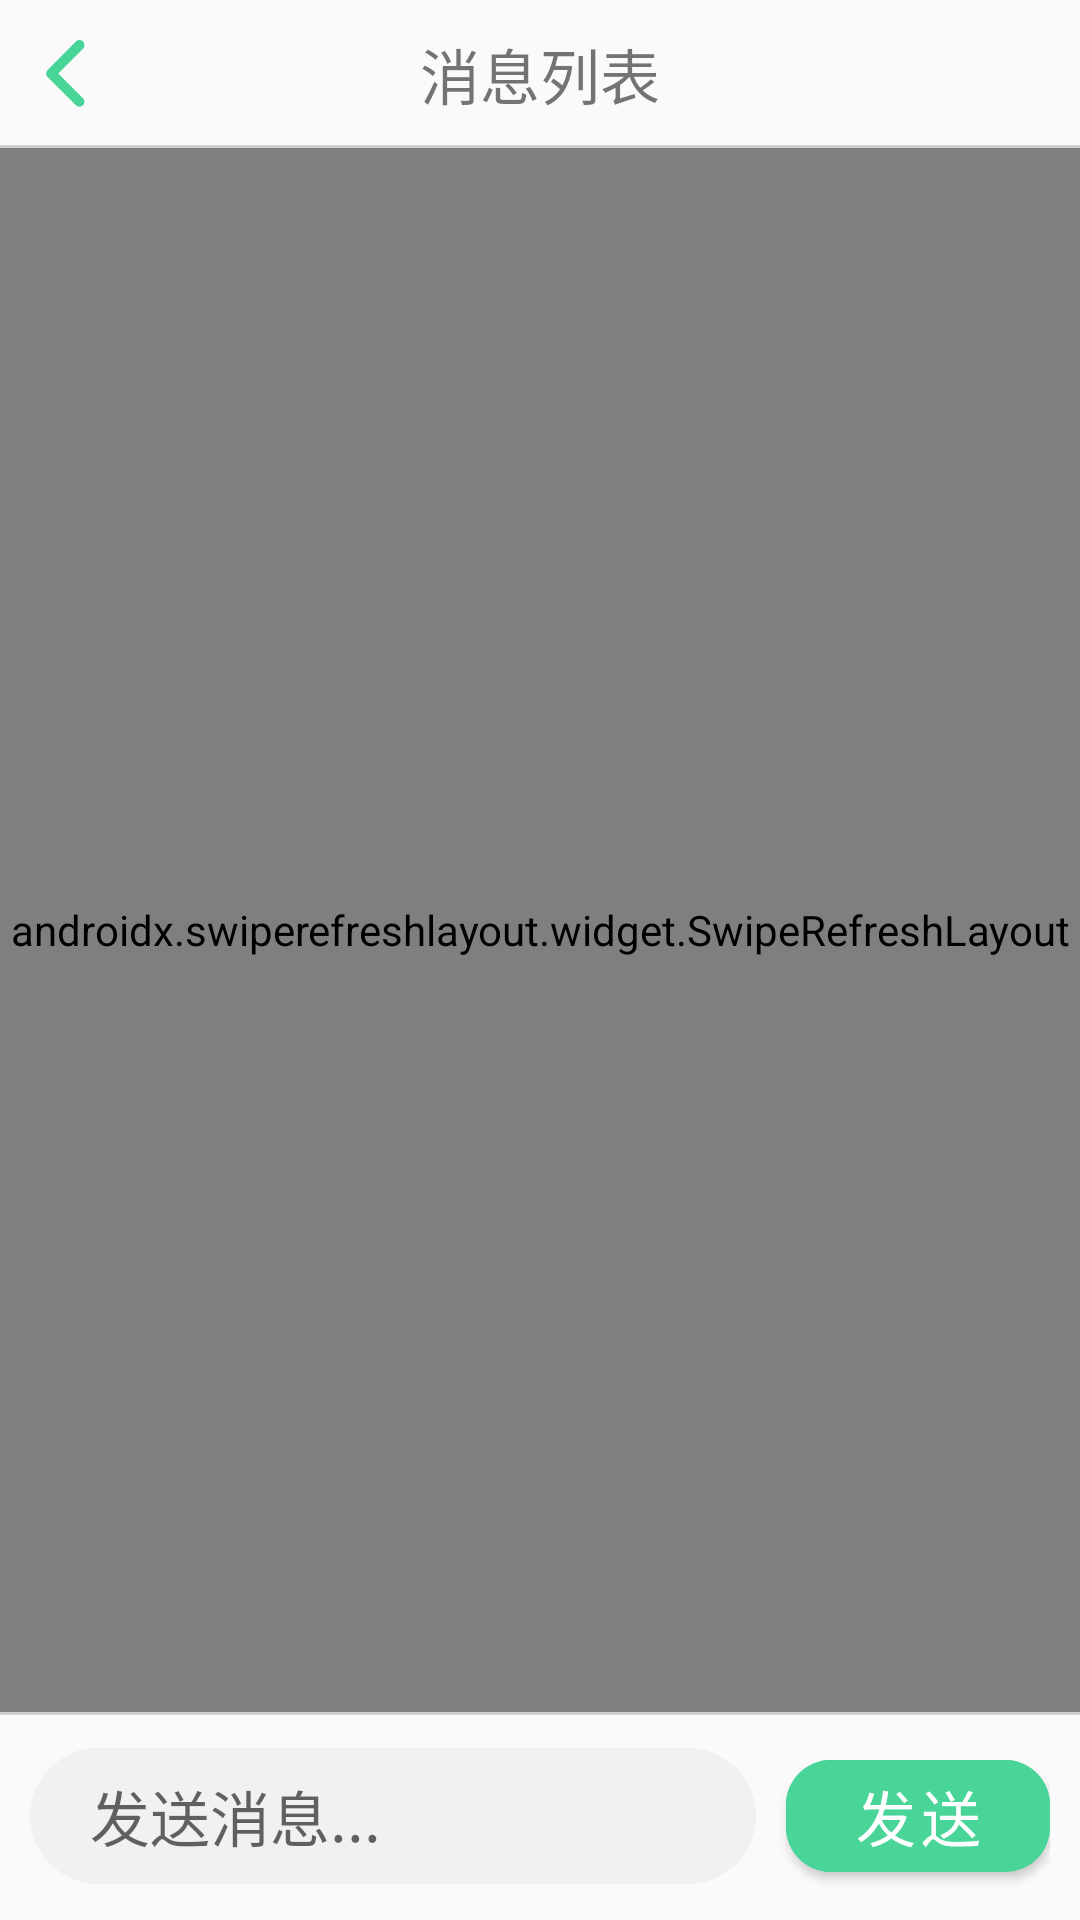

Screen size 1080px×1920px. Icon name, then its center in pixels as point (x, y):
back: point (65, 73)
